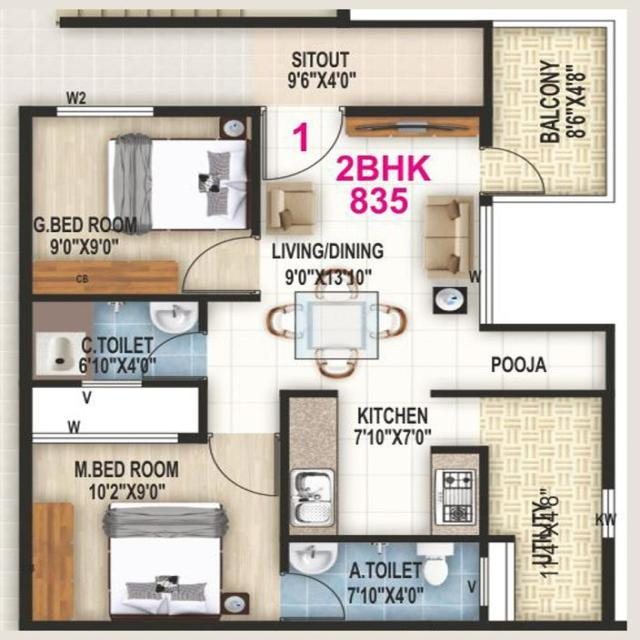Balcony-Sitout: (18, 22, 480, 109), (482, 25, 619, 204)
Bedroom: (24, 110, 263, 300)
Bedroom with Toilet: (19, 440, 286, 631)
Dining: (264, 266, 406, 379)
Kitchen: (279, 387, 492, 538)
Living: (252, 105, 487, 263)
Toilet: (284, 534, 490, 630), (14, 292, 211, 383)
Utility: (479, 389, 616, 631)
